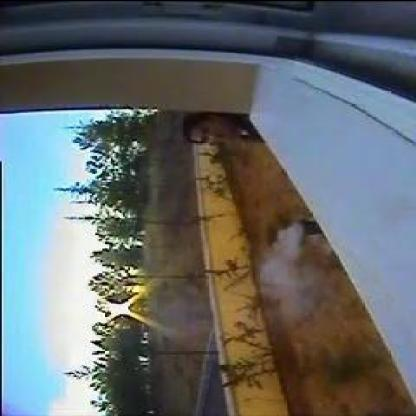-: (260, 223, 305, 293)
